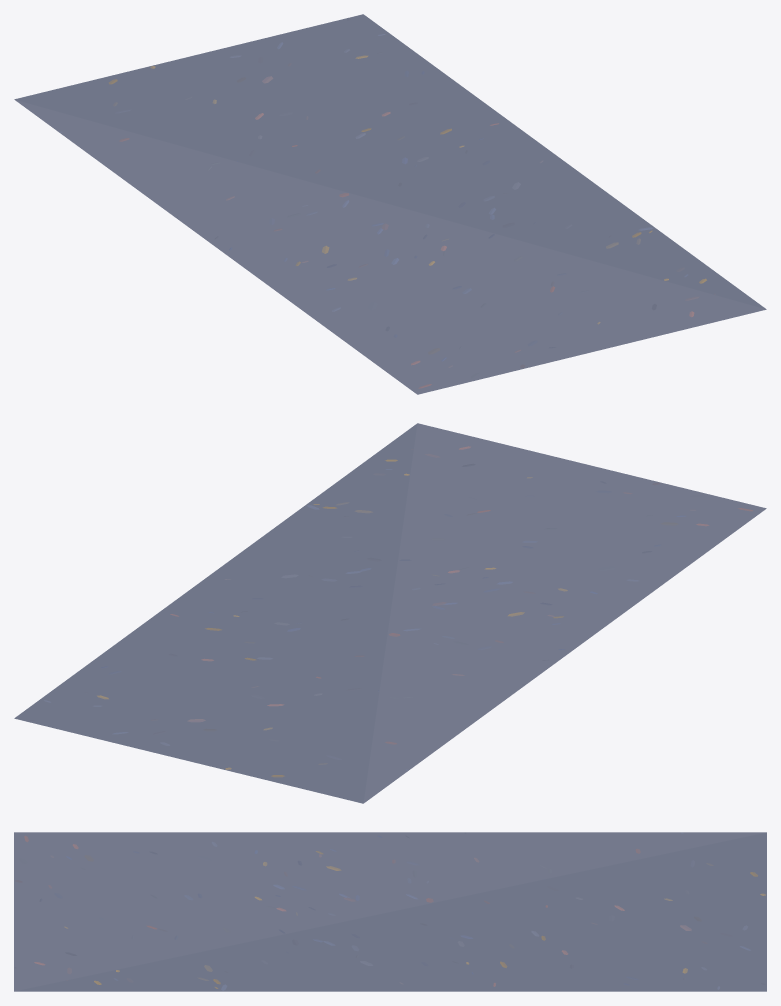
File: ART_MoatRoadSurface.glb
3 views of the same model, one above another, from view 1: azimuth 30°, elevation 25°; view 2: azimuth 150°, elevation 25°; view 3: azimuth 270°, elevation 25° (orthographic). The views are drawn at different scales.
Parts seen in each view (by area): view 1: ART_MoatRoadSurface; view 2: ART_MoatRoadSurface; view 3: ART_MoatRoadSurface.
Part boxes in pixels (bbox=[...]): ART_MoatRoadSurface: bbox=[14, 14, 766, 394]; ART_MoatRoadSurface: bbox=[14, 423, 766, 803]; ART_MoatRoadSurface: bbox=[14, 832, 766, 991].
Size of the model in its own units: 10 by 0.0065 by 20.
